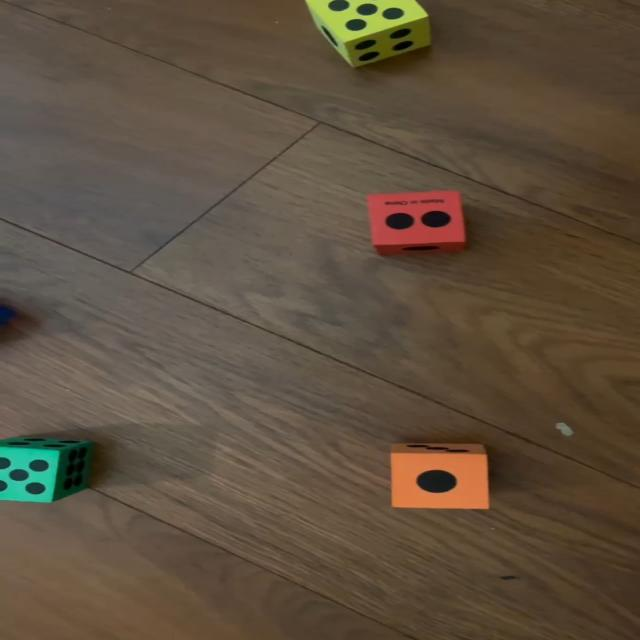red_block: (368, 190, 468, 256)
